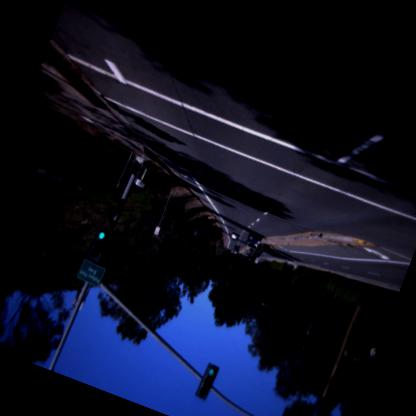trafficlight: (82, 226, 110, 271), (192, 363, 218, 404)
